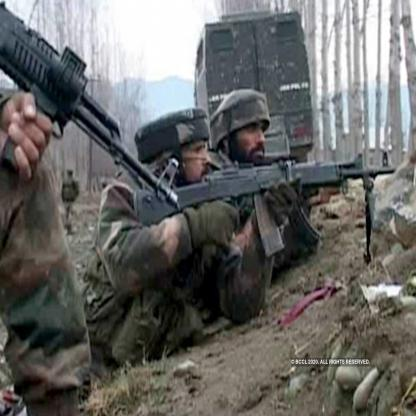Gun: (133, 142, 404, 274)
